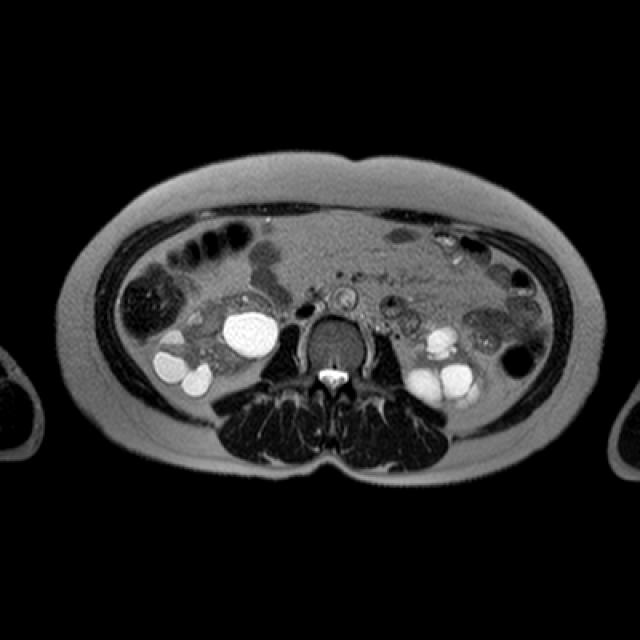sag: (153, 290, 283, 398)
sol: (403, 322, 492, 411)
